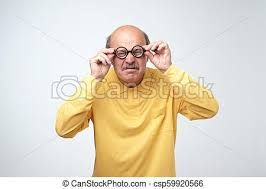white_male: (108, 31, 154, 89)
